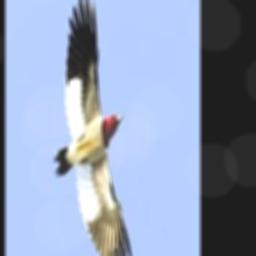Woodpecker: (53, 0, 131, 256)
